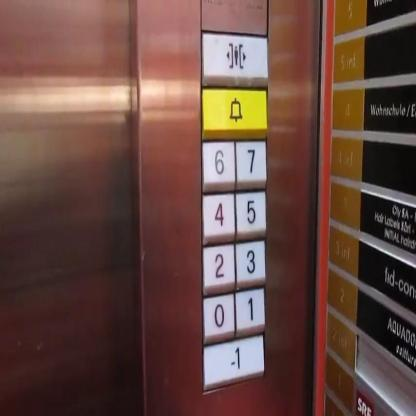-1: (201, 331, 265, 393)
0: (201, 292, 236, 342)
1: (232, 284, 268, 336)
2: (200, 241, 236, 295)
3: (233, 236, 267, 288)
4: (199, 188, 235, 244)
5: (234, 186, 268, 239)
6: (199, 133, 236, 190)
7: (233, 133, 269, 189)
alarm: (198, 80, 267, 138)
open: (198, 24, 271, 87)
